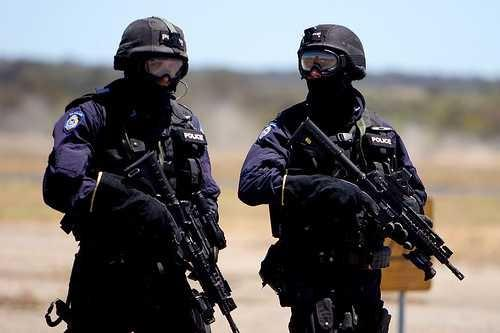heavyweapon: (290, 111, 476, 294), (110, 140, 242, 333)
